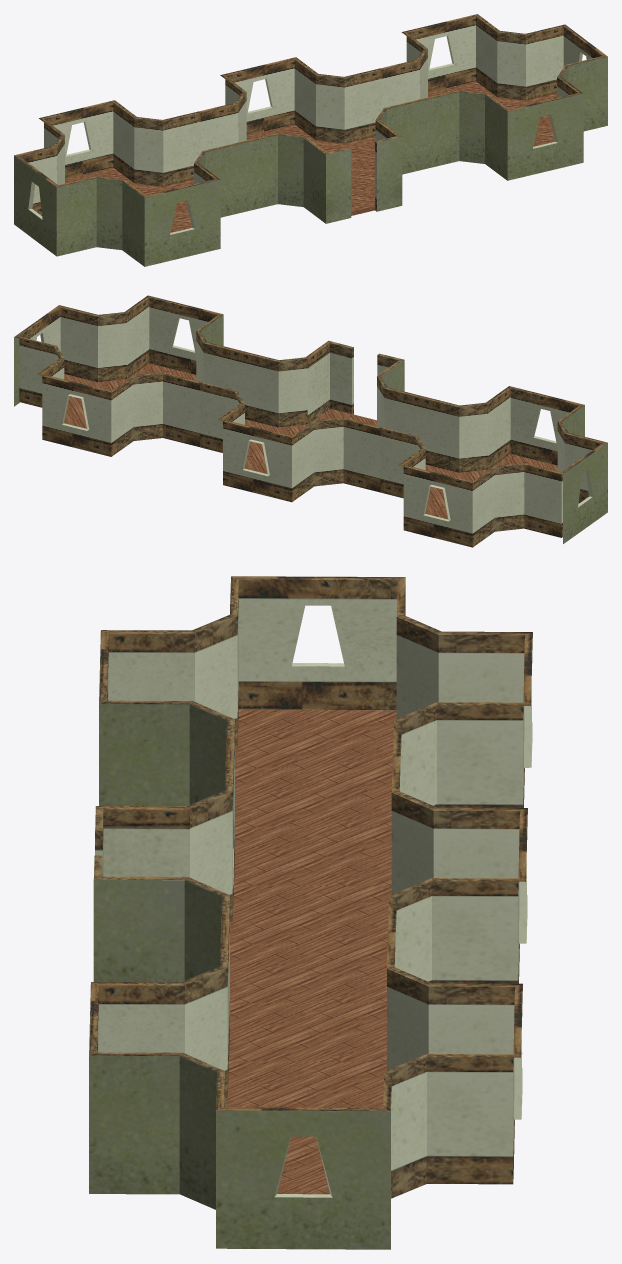
File: HouseInterior_3x1.fbx
3 views of the same model, one above another, from view 1: azimuth 30°, elevation 25°; view 2: azimuth 150°, elevation 25°; view 3: azimuth 270°, elevation 25° (orthographic). The views are drawn at different scales.
Visible parts, largest first — view 1: pared_lv3_02, pared_lv3_01, pared_lv3_03, pared_lv1_04, pared_lv1_01, pared_lv2_06, pared_lv2_04, pared_lv2_02, pared_lv1_03, pared_lateral_07, suelo_05, pared_lv1_02 (+6 smaller); view 2: pared_lv3_03, pared_lv3_01, pared_lv3_02, pared_lv1_01, pared_lv1_04, pared_lv2_05, pared_lv2_01, pared_lv2_03, pared_lateral_07, pared_lv1_02, pared_lv2_02, pared_lv2_04 (+6 smaller); view 3: suelo_06, suelo_05, pared_lv3_01, pared_lv3_02, pared_lv3_03, pared_lateral_08, pared_lv1_01, pared_lateral_07, pared_lv1_04, pared_lv1_02, suelo_04, pared_lv1_03 (+6 smaller).
Boxes of the visible parts, box(x1,y1,x2,y2) form: pared_lv3_02: box(199, 57, 382, 152); pared_lv3_01: box(381, 14, 564, 109); pared_lv3_03: box(15, 100, 200, 215); pared_lv1_04: box(122, 163, 220, 266); pared_lv1_01: box(485, 77, 583, 180); pared_lv2_06: box(56, 176, 124, 256); pared_lv2_04: box(240, 133, 305, 212); pared_lv2_02: box(421, 90, 486, 169); pared_lv1_03: box(303, 136, 351, 223); pared_lateral_07: box(14, 155, 57, 255); suelo_05: box(246, 124, 375, 215); pared_lv1_02: box(375, 120, 402, 211); pared_lv3_03: box(379, 427, 562, 547); pared_lv3_01: box(14, 336, 199, 456); pared_lv3_02: box(198, 382, 380, 502); pared_lv1_01: box(125, 295, 223, 378); pared_lv1_04: box(486, 386, 584, 469); pared_lv2_05: box(422, 396, 488, 472); pared_lv2_01: box(59, 305, 126, 382); pared_lv2_03: box(241, 351, 307, 427); pared_lateral_07: box(561, 442, 607, 543); pared_lv1_02: box(305, 340, 353, 423); pared_lv2_02: box(196, 331, 242, 396); pared_lv2_04: box(377, 376, 423, 441); suelo_06: box(234, 709, 524, 886); suelo_05: box(229, 885, 519, 1062); pared_lv3_01: box(383, 932, 522, 1198); pared_lv3_02: box(388, 756, 527, 983); pared_lv3_03: box(393, 577, 532, 807); pared_lateral_08: box(216, 1107, 390, 1249); pared_lv1_01: box(89, 982, 184, 1194); pared_lateral_07: box(232, 576, 405, 710); pared_lv1_04: box(99, 630, 194, 806); pared_lv1_02: box(93, 855, 187, 982); suelo_04: box(225, 1061, 514, 1194); pared_lv1_03: box(95, 806, 189, 877).
Bounding box in the file's own units: 13577 × 1635 × 4759.
